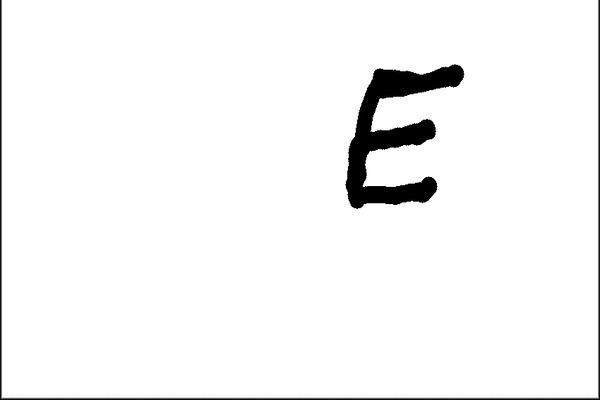E: (339, 61, 468, 210)
